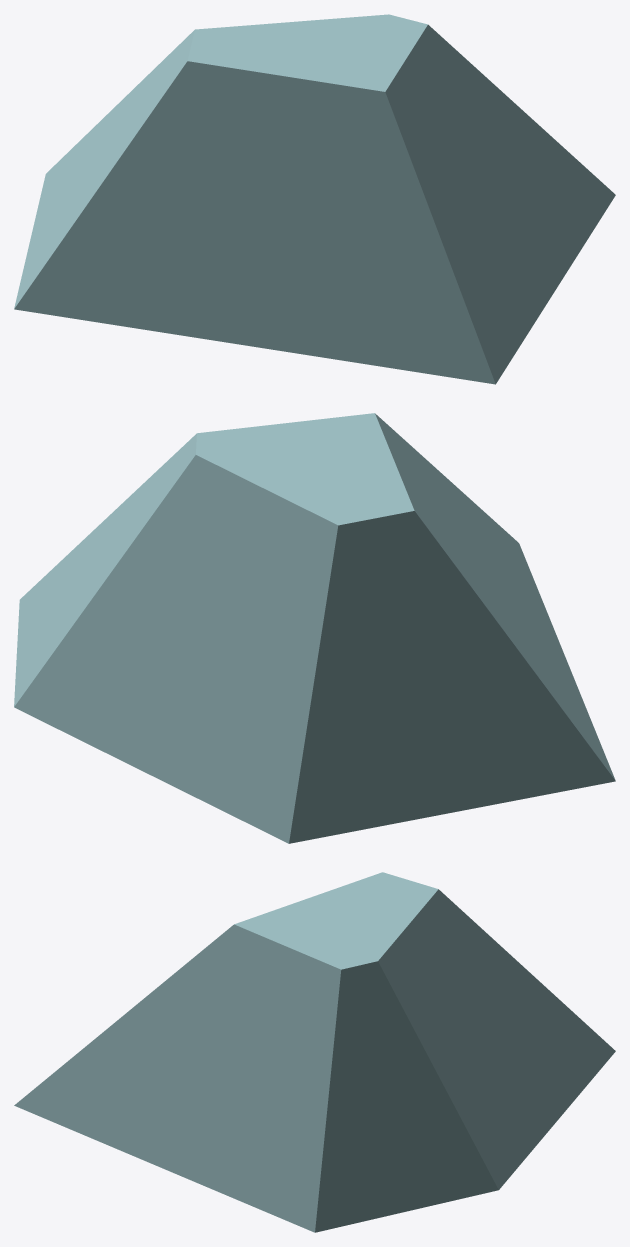
The model's file is stone_small3.obj.
The picture shows the model from 3 angles, top to bottom: view 1: azimuth 30°, elevation 25°; view 2: azimuth 150°, elevation 25°; view 3: azimuth 270°, elevation 25°; orthographic projection. The views are drawn at different scales.
Parts seen in each view (by area): view 1: stone_small3; view 2: stone_small3; view 3: stone_small3.
Boxes of the visible parts, x1,y1,x2,y2 form: stone_small3: (14,14,615,384); stone_small3: (14,413,615,843); stone_small3: (14,872,615,1232).
Size of the model in its own units: 3.61 by 1.23 by 3.61.
